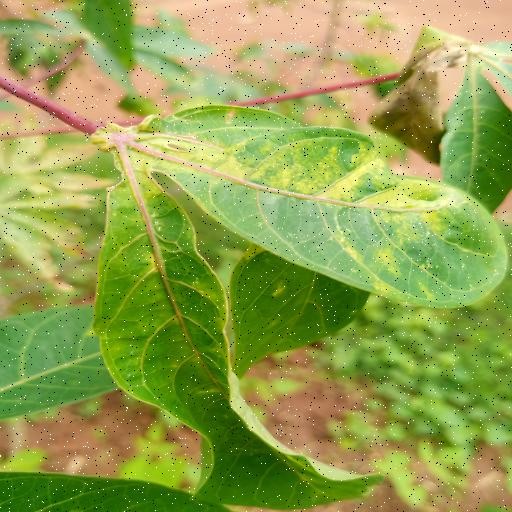Cassava_Mosaic: (88, 95, 499, 509)
